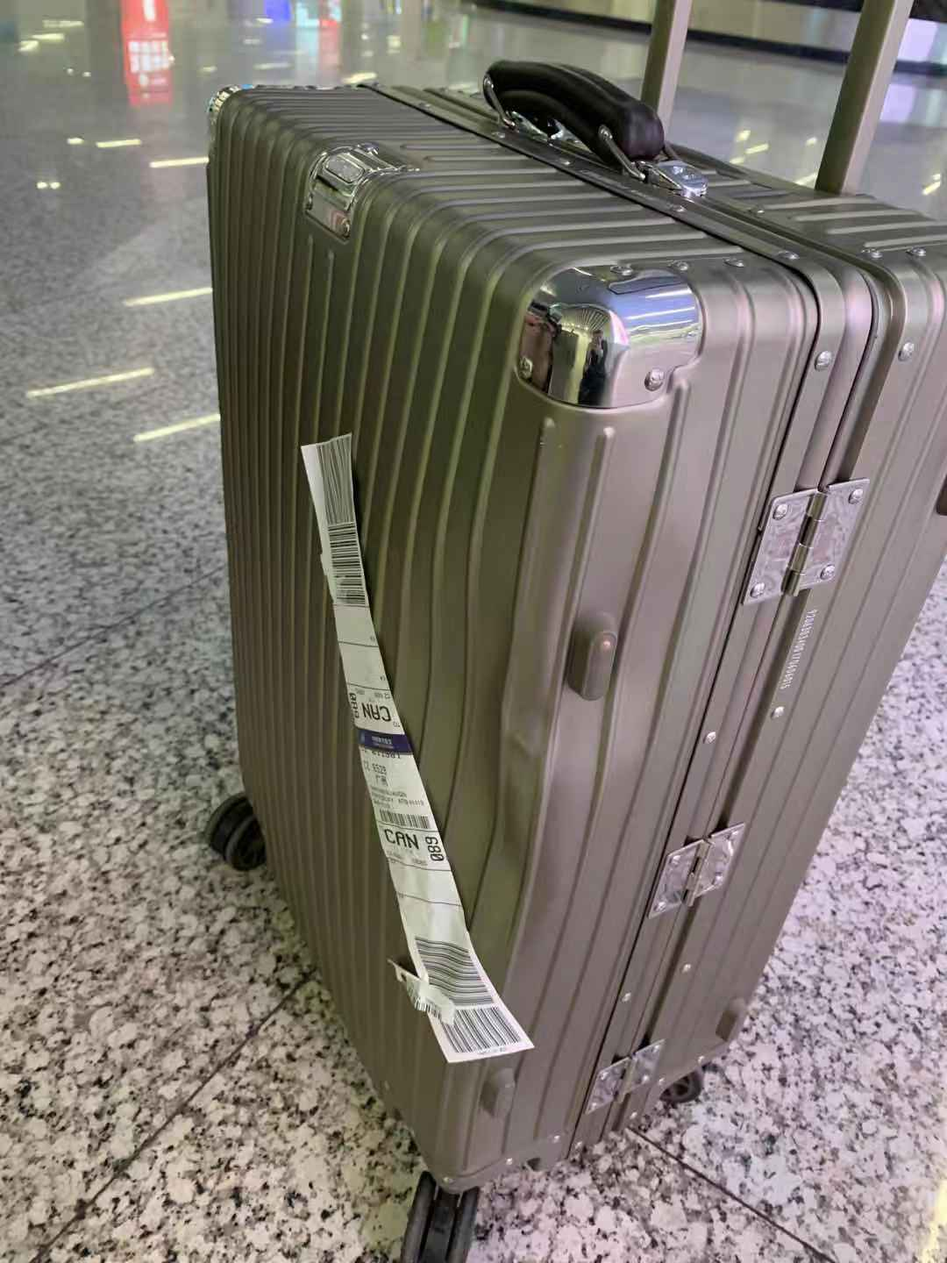rupture: (378, 579, 566, 944)
